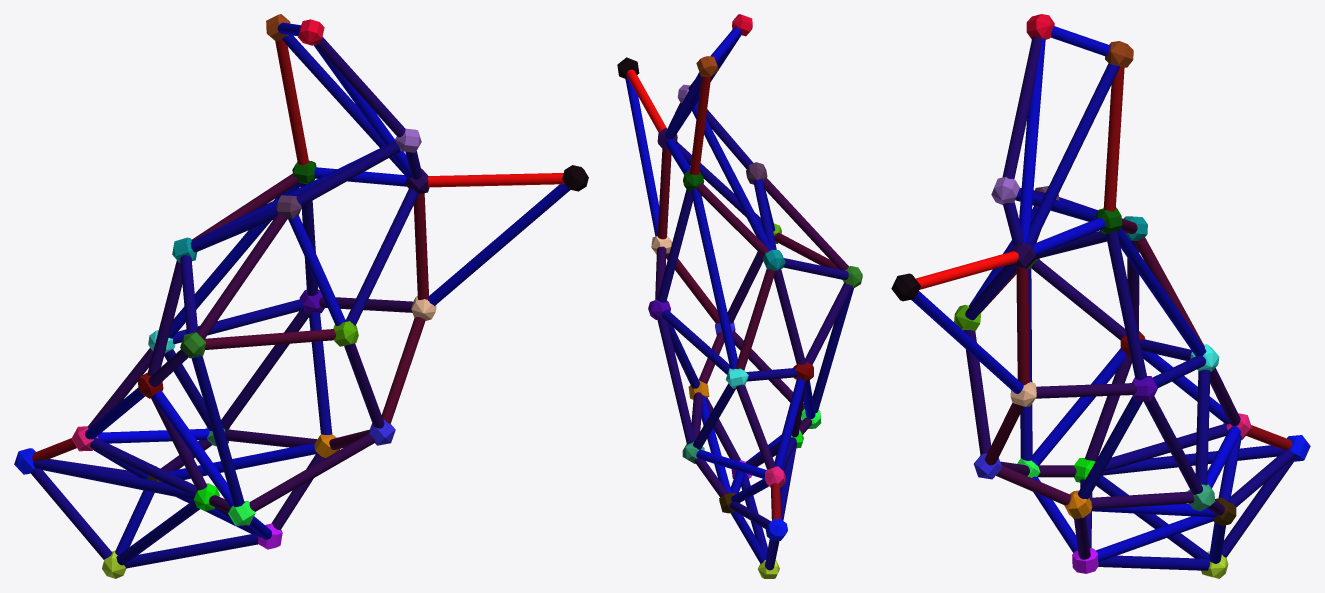
Rendered from penguin_skel.glb.
3 renders of one model, left to right at view 1: azimuth 30°, elevation 25°; view 2: azimuth 150°, elevation 25°; view 3: azimuth 270°, elevation 25°, orthographic. The views are drawn at different scales.
Visible parts, largest first — view 1: fg-00010-skel; view 2: fg-00010-skel; view 3: fg-00010-skel.
Boxes of the visible parts, x1,y1,x2,y2 form: fg-00010-skel: (14, 14, 588, 578); fg-00010-skel: (617, 14, 862, 578); fg-00010-skel: (891, 14, 1310, 578).
Bounding box in the file's own units: 0.1568 × 0.2281 × 0.1394.
Materials: 1 (1 with a texture image).
